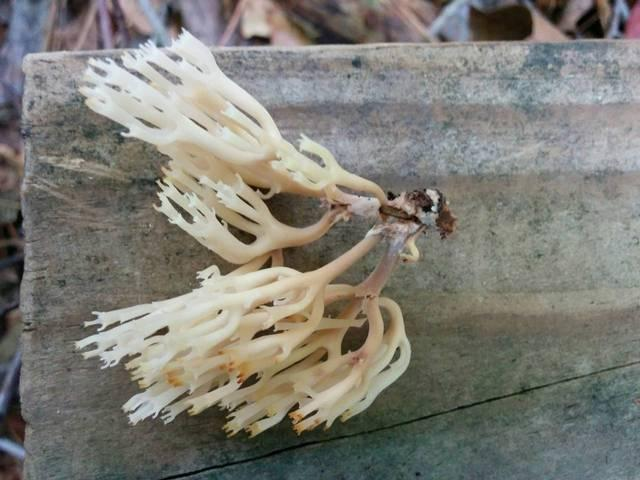Edible Mushroom: (72, 27, 456, 439)
